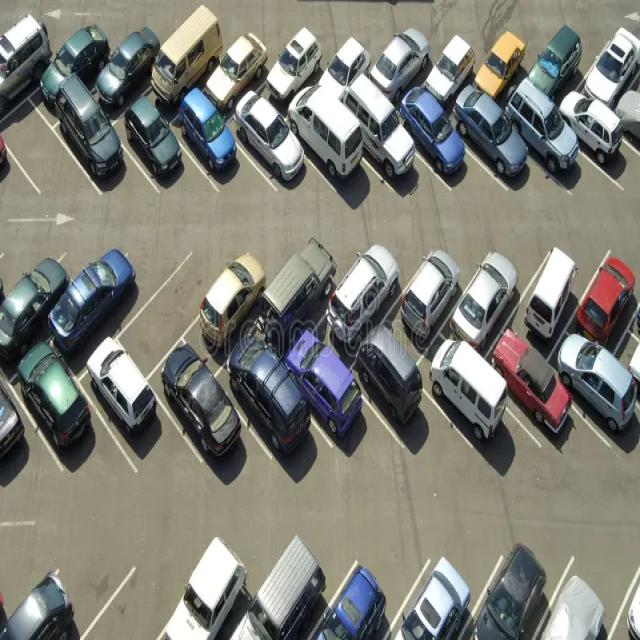libre: (122, 252, 226, 368), (83, 540, 194, 639), (4, 101, 96, 200)
ocupado: (0, 243, 637, 484), (2, 15, 639, 199), (140, 526, 638, 639), (1, 557, 116, 639)
